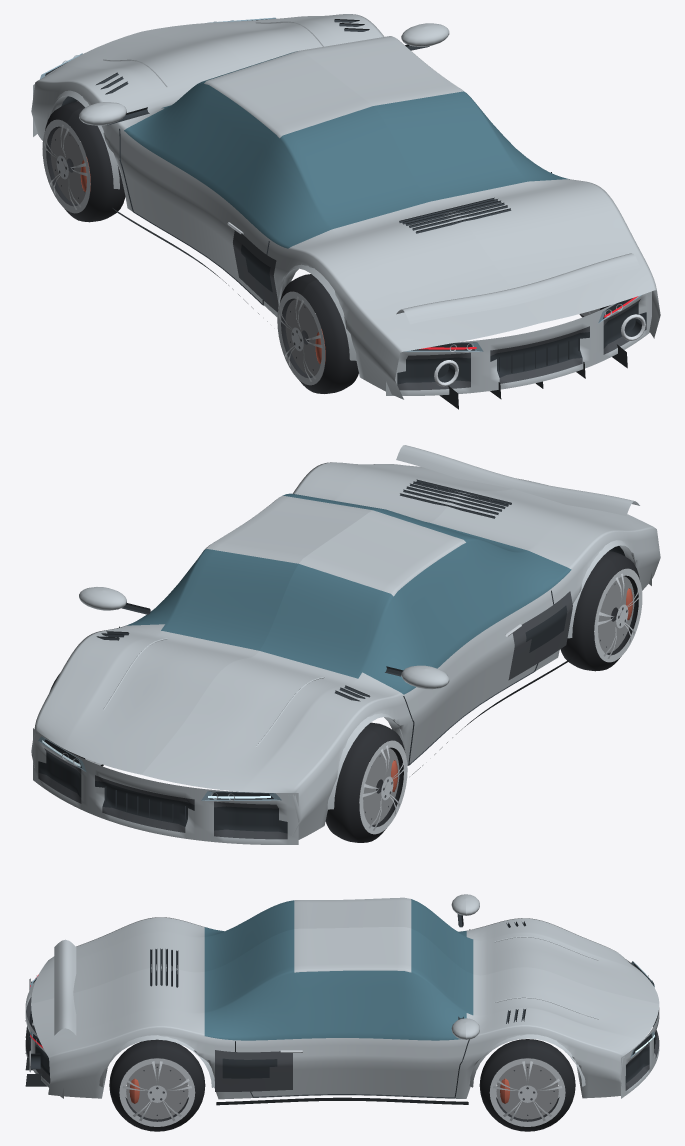
File: apex_rs_medium.glb
3 renders of one model, top to bottom at view 1: azimuth 30°, elevation 25°; view 2: azimuth 150°, elevation 25°; view 3: azimuth 270°, elevation 25°, orthographic. The views are drawn at different scales.
Visible parts, largest first — view 1: Body, Wheel_2, Wheel_0; view 2: Body, Wheel_0, Wheel_2; view 3: Body, Wheel_1, Wheel_3.
Part boxes in pixels (x1,y1,x2,y2): Body: (31,14,660,409); Wheel_2: (277,274,358,393); Wheel_0: (42,101,125,222); Body: (31,445,660,844); Wheel_0: (325,722,407,842); Wheel_2: (560,551,642,671); Body: (25,894,659,1105); Wheel_1: (479,1039,575,1131); Wheel_3: (109,1039,205,1131).
Size of the model in its own units: 2.44 by 1.19 by 4.79.
